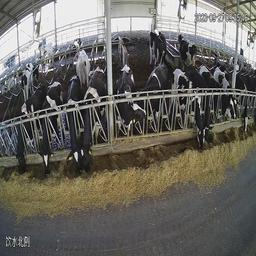cow: (81, 61, 109, 182), (171, 65, 207, 156), (14, 81, 45, 179), (186, 59, 219, 149), (41, 74, 63, 182), (136, 57, 169, 129), (116, 61, 142, 146), (64, 66, 82, 187), (205, 61, 236, 128), (18, 57, 39, 99), (176, 30, 197, 65), (238, 76, 250, 137), (76, 47, 90, 87), (39, 38, 55, 69), (156, 29, 168, 66), (146, 26, 157, 63), (70, 34, 81, 52)
